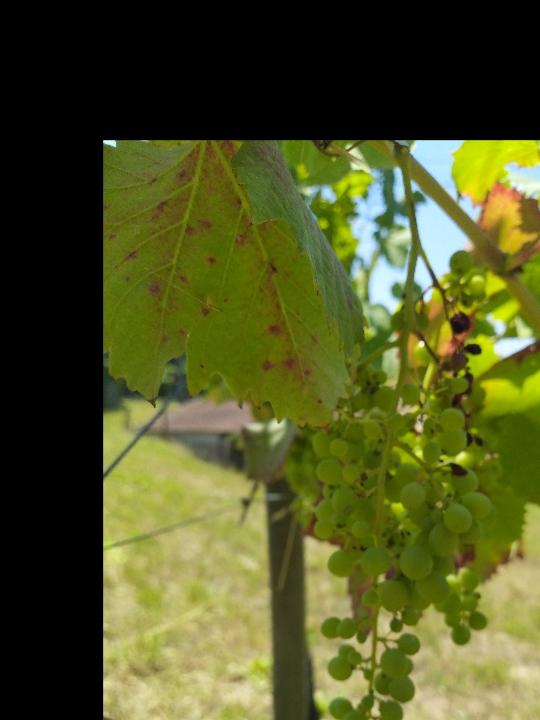grape: (306, 375, 497, 720)
